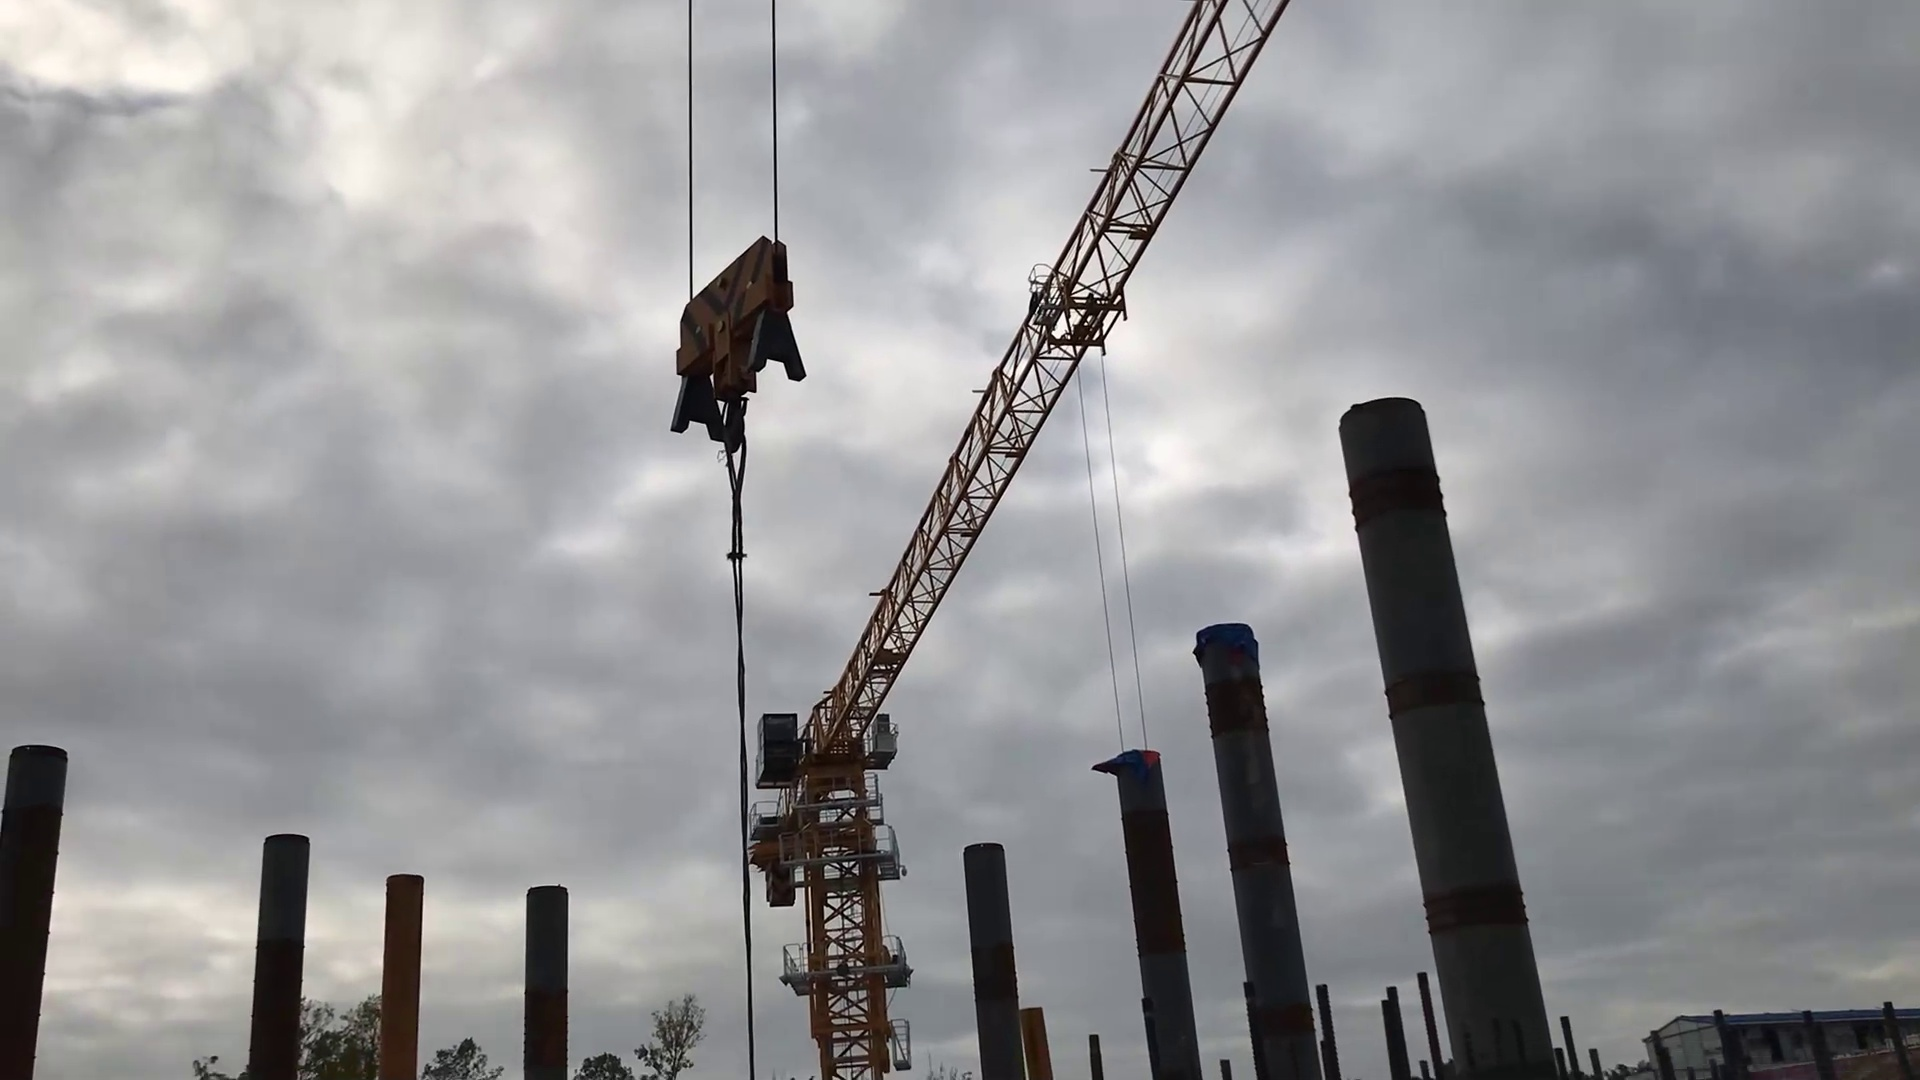hook: (665, 229, 814, 459)
